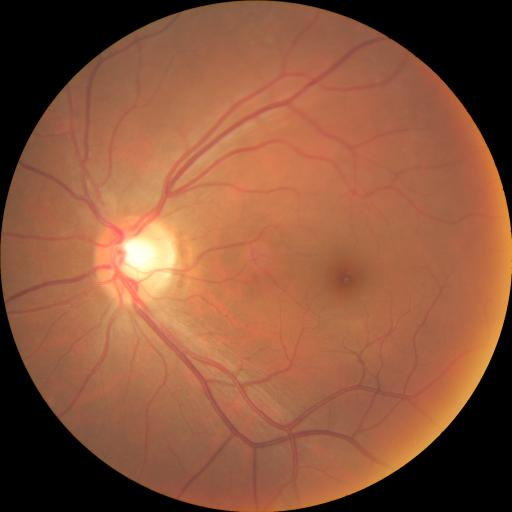Optic Cup: (118, 238, 153, 268)
Optic Disc: (95, 217, 175, 303)
